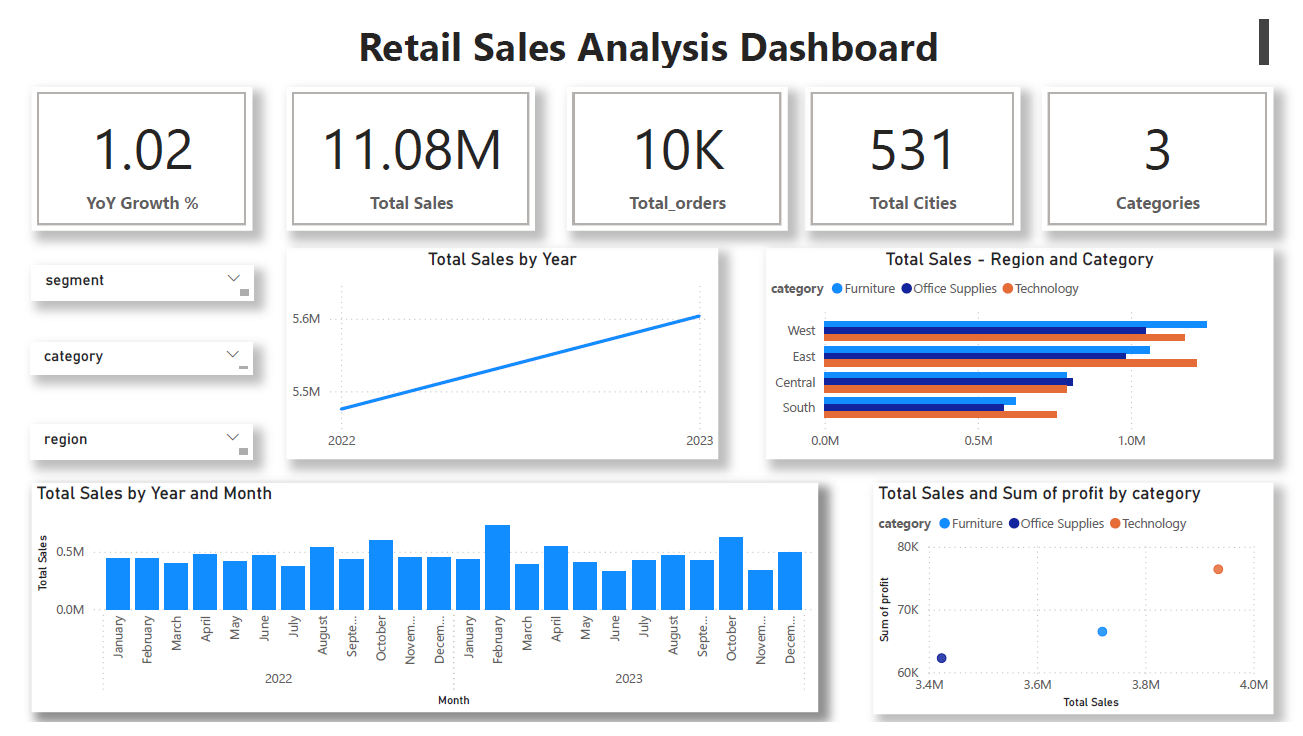

The dashboard page shown, as its layout file describes it:
{"tool":"powerbi","page":{"name":"Page 1","canvas":[1280,720],"ordinal":0},"visuals":[{"type":"cardVisual","fields":{"Data":["df_orders.YoY Growth %"]},"box":[41.2,116.6,209.9,137.2],"z":0},{"type":"lineChart","fields":{"Category":["df_orders.order_date.Variation.Date Hierarchy.Year","df_orders.order_date.Variation.Date Hierarchy.Quarter","df_orders.order_date.Variation.Date Hierarchy.Month","df_orders.order_date.Variation.Date Hierarchy.Day"],"Y":["df_orders.Total Sales"]},"box":[282.7,270.3,410.3,200.3],"z":1000},{"type":"slicer","fields":{"Values":["df_orders.region"]},"box":[39.8,437.7,211.3,32.9],"z":2000},{"type":"slicer","fields":{"Values":["df_orders.category"]},"box":[39.8,359.5,211.3,30.2],"z":3000},{"type":"slicer","fields":{"Values":["df_orders.segment"]},"box":[41.2,286.8,211.3,32.9],"z":4000},{"type":"clusteredBarChart","title":"Total Sales - Region and Category","fields":{"Series":["df_orders.category"],"Category":["df_orders.region"],"Y":["df_orders.Total Sales"]},"box":[738.3,270.3,481.6,200.3],"z":5000},{"type":"columnChart","fields":{"Y":["df_orders.Total Sales"],"Category":["df_orders.order_date.Variation.Date Hierarchy.Year","df_orders.order_date.Variation.Date Hierarchy.Month"]},"box":[41.2,492.6,746.5,218.2],"z":6000},{"type":"scatterChart","fields":{"X":["df_orders.Total Sales"],"Y":["Sum(df_orders.profit)"],"Series":["df_orders.category"]},"box":[839.7,492.6,380.7,220.2],"z":8000},{"type":"cardVisual","fields":{"Data":["df_orders.Total Sales"]},"box":[282.7,116.6,236,137.2],"z":9000},{"type":"cardVisual","fields":{"Data":["df_orders.Total_orders"]},"box":[548.9,116.6,209.9,137.2],"z":10000},{"type":"cardVisual","fields":{"Data":["df_orders.Total Cities"]},"box":[775.3,116.6,204.5,137.2],"z":11000},{"type":"cardVisual","fields":{"Data":["df_orders.Categories"]},"box":[1000.3,116.6,219.6,137.2],"z":12000},{"type":"textbox","box":[41.2,48,1178.7,56.3],"z":12001}]}

Visuals, with their boxes in screenshot pixels (x1, y1, x2, y2), scaled from the page's 1280x720 canvas onto the 1303x736 screenshot:
cardVisual - df_orders.YoY Growth %: bbox(42, 119, 256, 259)
lineChart - df_orders.order_date.Variation.Date Hierarchy.Year x df_orders.order_date.Variation.Date Hierarchy.Quarter: bbox(288, 276, 705, 481)
slicer - df_orders.region: bbox(41, 447, 256, 481)
slicer - df_orders.category: bbox(41, 367, 256, 398)
slicer - df_orders.segment: bbox(42, 293, 257, 327)
"Total Sales - Region and Category" clusteredBarChart: bbox(752, 276, 1242, 481)
columnChart - df_orders.Total Sales x df_orders.order_date.Variation.Date Hierarchy.Year: bbox(42, 504, 802, 727)
scatterChart - df_orders.Total Sales x Sum(df_orders.profit): bbox(855, 504, 1242, 729)
cardVisual - df_orders.Total Sales: bbox(288, 119, 528, 259)
cardVisual - df_orders.Total_orders: bbox(559, 119, 772, 259)
cardVisual - df_orders.Total Cities: bbox(789, 119, 997, 259)
cardVisual - df_orders.Categories: bbox(1018, 119, 1242, 259)
textbox: bbox(42, 49, 1242, 107)
